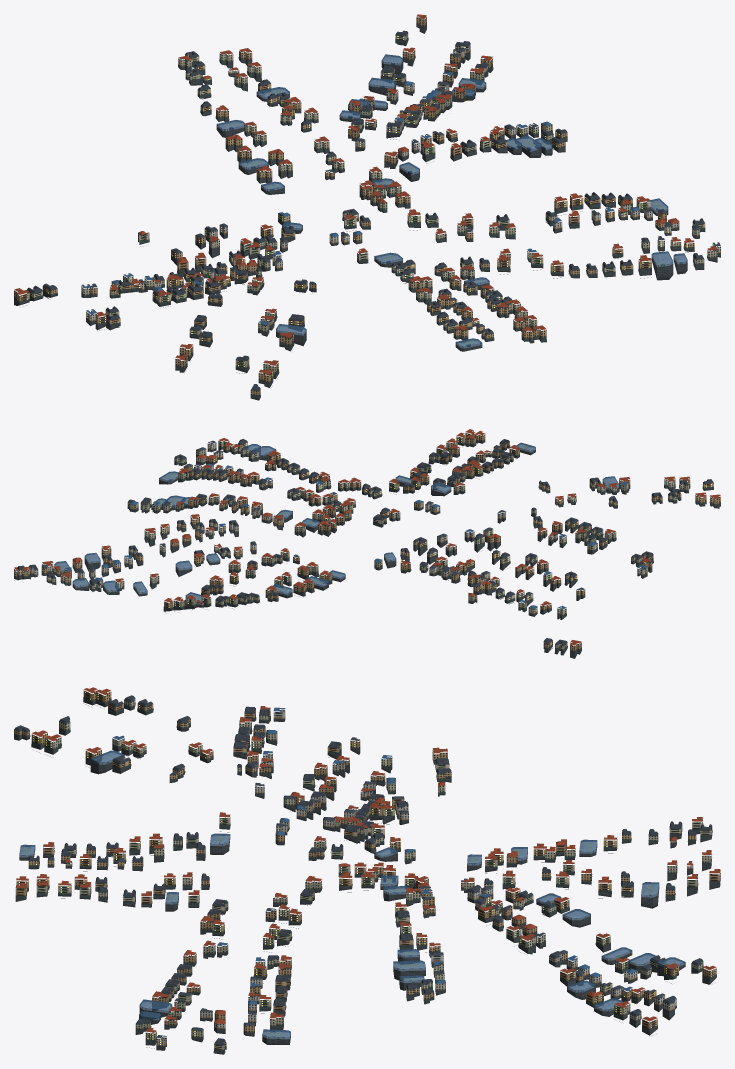
The model's file is osm_buildings_T_E02_S01_Q2.glb.
3 renders of one model, top to bottom at view 1: azimuth 30°, elevation 25°; view 2: azimuth 150°, elevation 25°; view 3: azimuth 270°, elevation 25°, orthographic. The views are drawn at different scales.
Parts seen in each view (by area): view 1: OSM_T_E02_S01_Q2_foundation, OSM_T_E02_S01_Q2_wall_french_ochre, OSM_T_E02_S01_Q2_wall_cream_stucco, OSM_T_E02_S01_Q2_roof_terracotta, OSM_T_E02_S01_Q2_roof_mansard_slate, OSM_T_E02_S01_Q2_greenhouse_blend, OSM_T_E02_S01_Q2_roof_mansard_deck, OSM_T_E02_S01_Q2_roof_mint_metal, OSM_T_E02_S01_Q2_trim_cornice, OSM_T_E02_S01_Q2_balcony_railing, OSM_T_E02_S01_Q2_wall_pastel_sand, OSM_T_E02_S01_Q2_wall_warm_white (+2 smaller); view 2: OSM_T_E02_S01_Q2_foundation, OSM_T_E02_S01_Q2_wall_french_ochre, OSM_T_E02_S01_Q2_wall_cream_stucco, OSM_T_E02_S01_Q2_roof_terracotta, OSM_T_E02_S01_Q2_roof_mansard_slate, OSM_T_E02_S01_Q2_greenhouse_blend, OSM_T_E02_S01_Q2_roof_mansard_deck, OSM_T_E02_S01_Q2_roof_mint_metal, OSM_T_E02_S01_Q2_wall_pastel_sand, OSM_T_E02_S01_Q2_wall_warm_white, OSM_T_E02_S01_Q2_roof_alpine_blue, OSM_T_E02_S01_Q2_trim_cornice (+2 smaller); view 3: OSM_T_E02_S01_Q2_foundation, OSM_T_E02_S01_Q2_wall_french_ochre, OSM_T_E02_S01_Q2_wall_cream_stucco, OSM_T_E02_S01_Q2_roof_terracotta, OSM_T_E02_S01_Q2_roof_mansard_slate, OSM_T_E02_S01_Q2_greenhouse_blend, OSM_T_E02_S01_Q2_roof_mansard_deck, OSM_T_E02_S01_Q2_roof_mint_metal, OSM_T_E02_S01_Q2_wall_pastel_sand, OSM_T_E02_S01_Q2_trim_cornice, OSM_T_E02_S01_Q2_balcony_railing, OSM_T_E02_S01_Q2_wall_warm_white (+2 smaller).
Part boxes in pixels (box(x1,y1,x2,y2)): OSM_T_E02_S01_Q2_foundation: box(14, 23, 720, 400); OSM_T_E02_S01_Q2_wall_french_ochre: box(14, 17, 694, 395); OSM_T_E02_S01_Q2_wall_cream_stucco: box(26, 33, 717, 373); OSM_T_E02_S01_Q2_roof_terracotta: box(14, 14, 717, 374); OSM_T_E02_S01_Q2_roof_mansard_slate: box(27, 31, 720, 390); OSM_T_E02_S01_Q2_greenhouse_blend: box(216, 54, 687, 348); OSM_T_E02_S01_Q2_roof_mansard_deck: box(28, 30, 703, 388); OSM_T_E02_S01_Q2_roof_mint_metal: box(14, 25, 717, 397); OSM_T_E02_S01_Q2_trim_cornice: box(14, 17, 718, 393); OSM_T_E02_S01_Q2_balcony_railing: box(21, 17, 703, 378); OSM_T_E02_S01_Q2_wall_pastel_sand: box(86, 50, 679, 321); OSM_T_E02_S01_Q2_wall_warm_white: box(111, 44, 720, 290); OSM_T_E02_S01_Q2_foundation: box(14, 438, 720, 658); OSM_T_E02_S01_Q2_wall_french_ochre: box(14, 431, 720, 651); OSM_T_E02_S01_Q2_wall_cream_stucco: box(29, 435, 688, 649); OSM_T_E02_S01_Q2_roof_terracotta: box(14, 429, 720, 645); OSM_T_E02_S01_Q2_roof_mansard_slate: box(17, 439, 713, 645); OSM_T_E02_S01_Q2_greenhouse_blend: box(54, 442, 619, 602); OSM_T_E02_S01_Q2_roof_mansard_deck: box(18, 439, 712, 643); OSM_T_E02_S01_Q2_roof_mint_metal: box(14, 440, 720, 656); OSM_T_E02_S01_Q2_wall_pastel_sand: box(30, 451, 647, 600); OSM_T_E02_S01_Q2_wall_warm_white: box(17, 443, 566, 613); OSM_T_E02_S01_Q2_roof_alpine_blue: box(65, 463, 646, 609); OSM_T_E02_S01_Q2_trim_cornice: box(21, 434, 719, 649); OSM_T_E02_S01_Q2_foundation: box(14, 697, 720, 1054); OSM_T_E02_S01_Q2_wall_french_ochre: box(14, 690, 720, 1032); OSM_T_E02_S01_Q2_wall_cream_stucco: box(36, 698, 712, 1050); OSM_T_E02_S01_Q2_roof_terracotta: box(15, 687, 720, 1032); OSM_T_E02_S01_Q2_roof_mansard_slate: box(14, 696, 712, 1045); OSM_T_E02_S01_Q2_greenhouse_blend: box(19, 750, 685, 1039); OSM_T_E02_S01_Q2_roof_mansard_deck: box(16, 695, 710, 1042); OSM_T_E02_S01_Q2_roof_mint_metal: box(14, 697, 719, 1052); OSM_T_E02_S01_Q2_wall_pastel_sand: box(200, 710, 665, 1028); OSM_T_E02_S01_Q2_trim_cornice: box(14, 694, 715, 1048); OSM_T_E02_S01_Q2_balcony_railing: box(18, 693, 720, 1038); OSM_T_E02_S01_Q2_wall_warm_white: box(156, 752, 693, 1046).
Bounding box in the file's own units: 957 × 141 × 937.
16 materials, 16 textured.
